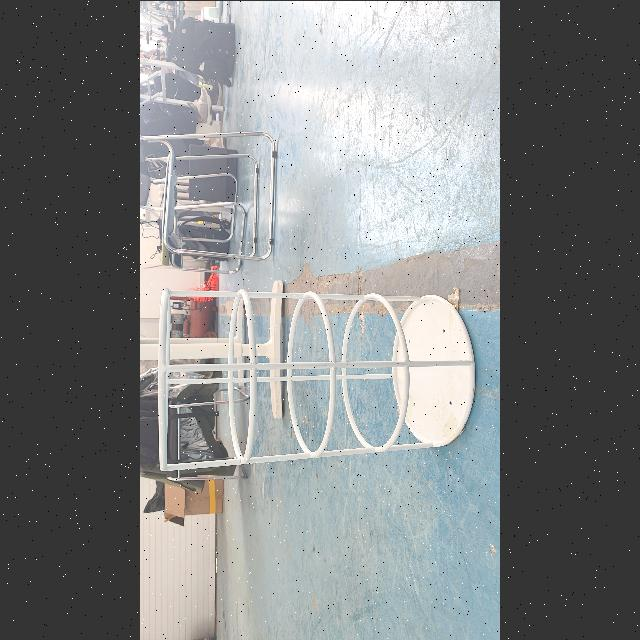S: (153, 276, 484, 480)
